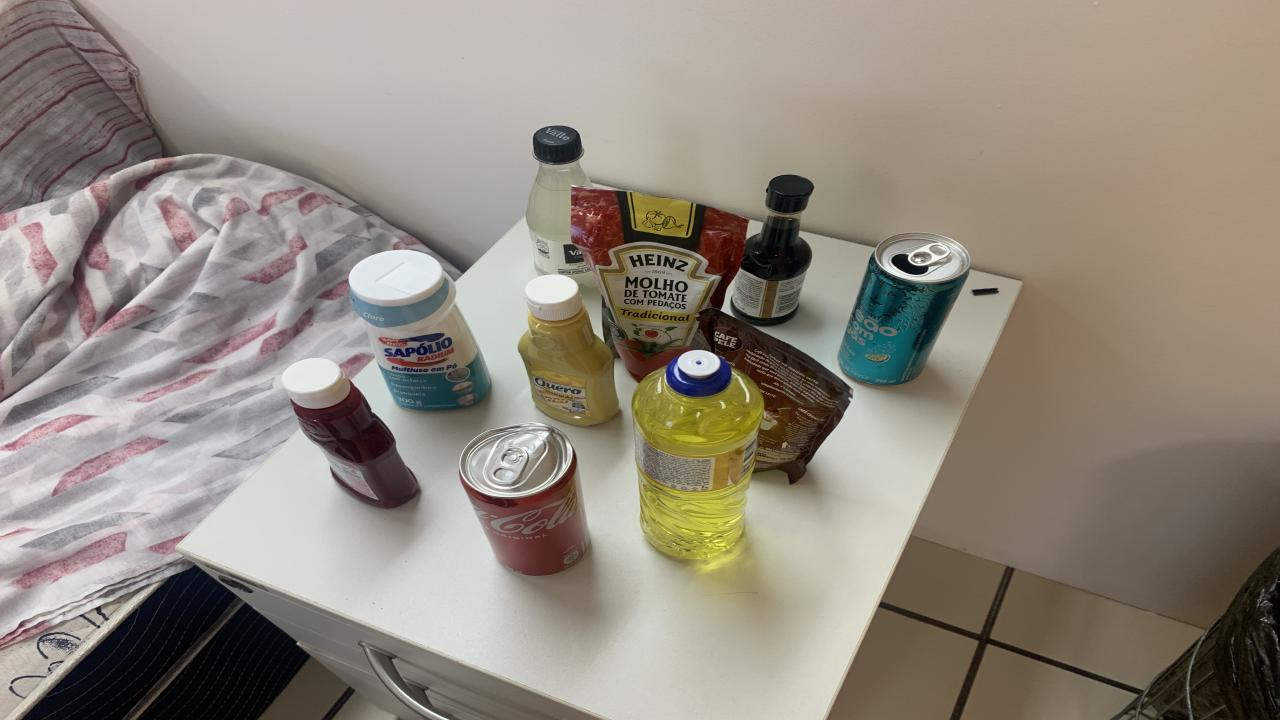Cleaner-Cleanup_Items: (350, 249, 490, 411)
Coffee-Pantry_Items: (700, 309, 852, 484)
Coke-Drinks: (460, 424, 590, 576)
Detergent-Cleanup_Items: (632, 351, 765, 559)
English_Sauce-Pantry_Items: (730, 174, 812, 326)
Ketchup-Pantry_Items: (282, 358, 418, 508)
Mustard-Pantry_Items: (518, 274, 618, 426)
Soda-Drinks: (525, 126, 595, 287)
Tea-Drinks: (838, 232, 970, 384)
Tomato_Sauce-Pantry_Items: (570, 188, 748, 381)
